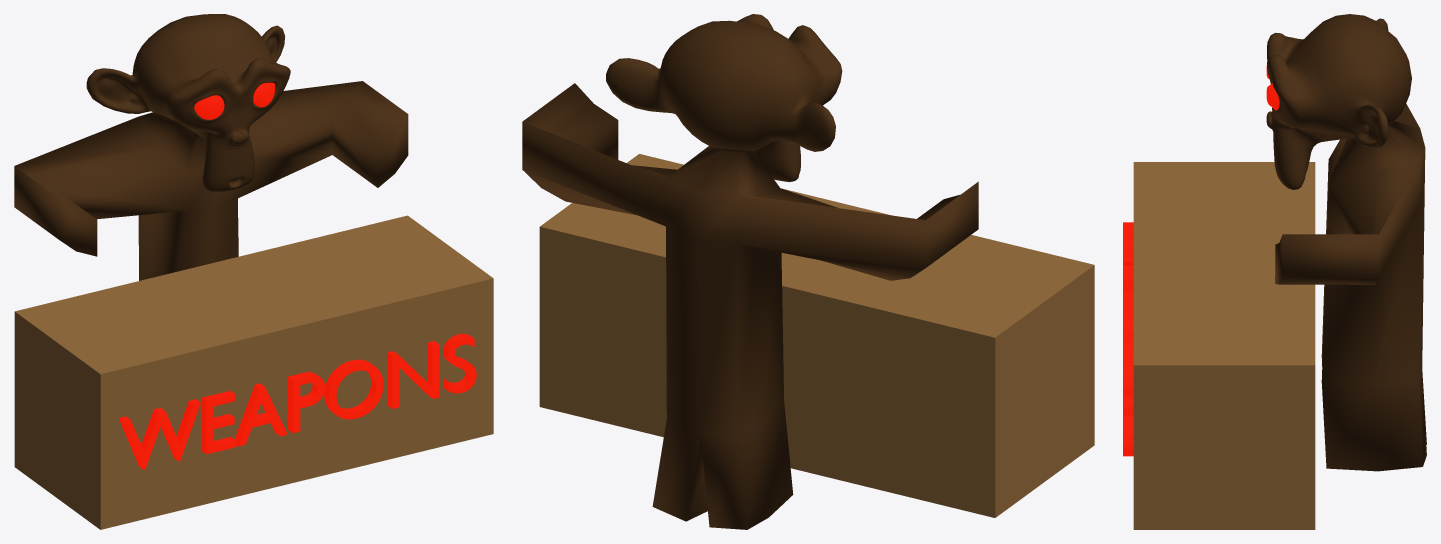
Rendered from merchant_weaponsglb.glb.
3 views of the same model, side by side, from view 1: azimuth 30°, elevation 25°; view 2: azimuth 150°, elevation 25°; view 3: azimuth 270°, elevation 25° (orthographic). The views are drawn at different scales.
Parts seen in each view (by area): view 1: Suzanne-col; view 2: Suzanne-col; view 3: Suzanne-col.
Boxes of the visible parts, x1,y1,x2,y2 form: Suzanne-col: (14, 14, 493, 529); Suzanne-col: (522, 14, 1094, 529); Suzanne-col: (1123, 14, 1426, 529).
Size of the model in its own units: 5.28 by 5.22 by 3.34.
